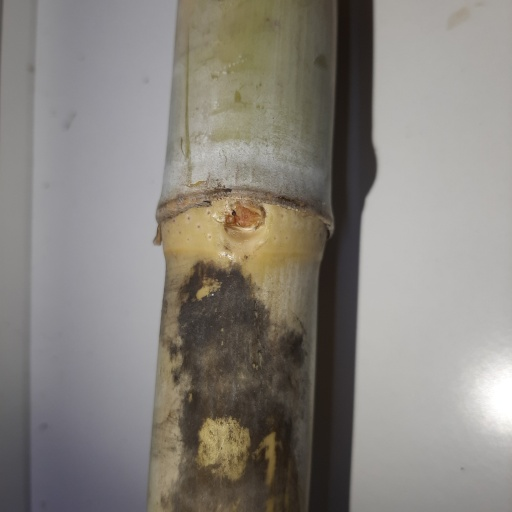Damage_Bud: (220, 201, 264, 243)
